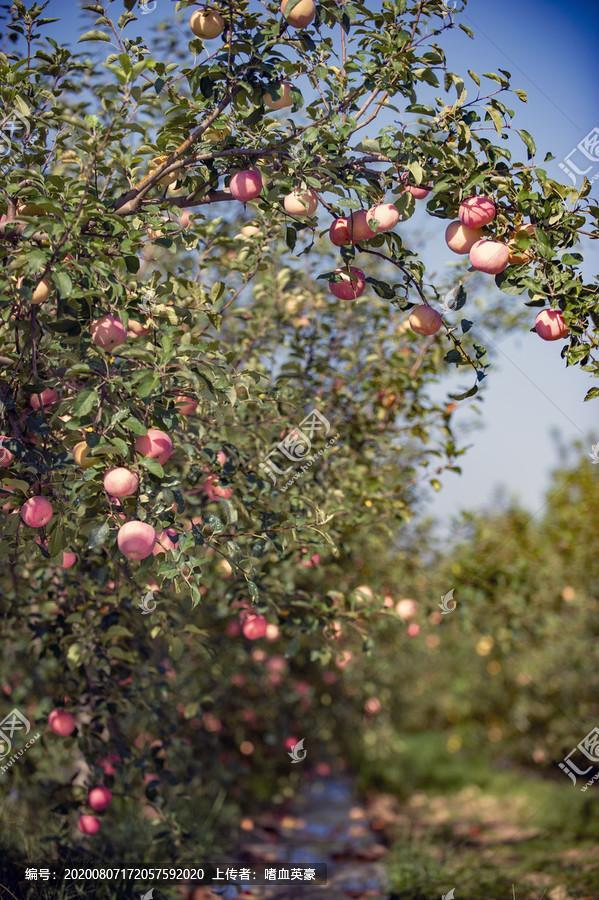apple: (129, 426, 175, 467), (91, 315, 131, 355), (326, 262, 368, 298), (116, 521, 155, 559), (468, 240, 509, 275), (457, 196, 496, 230), (21, 493, 56, 528), (285, 182, 318, 219), (227, 170, 262, 204), (533, 309, 568, 342), (407, 306, 441, 337)
